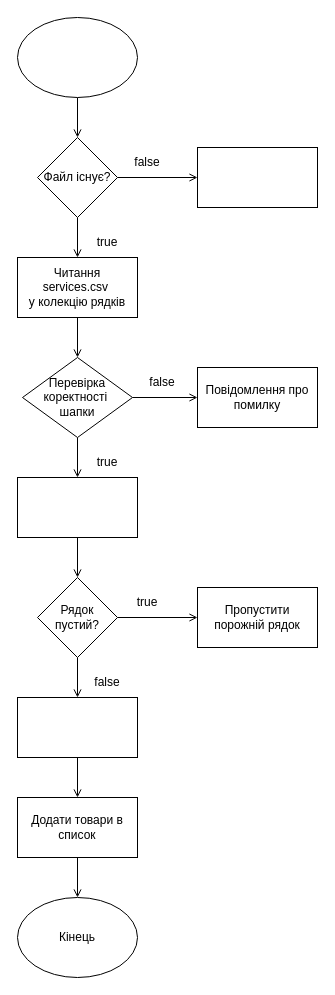
Some shapes in this 335 by 995 pixel diagram are drawn without their labels. Here are the shapes that lost their labels. From the top down, the centre of each, then its label:
At (x=77, y=57): "Початок".
At (x=257, y=177): "Створення services.csv з шапкою".
At (x=77, y=507): "Перевірка рядків".
At (x=77, y=727): "Зчитати Name, Price, Duration, Quantity".
